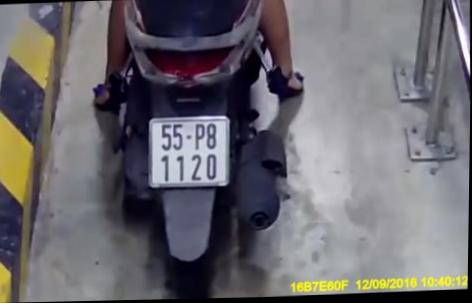LP: (146, 115, 231, 189)
